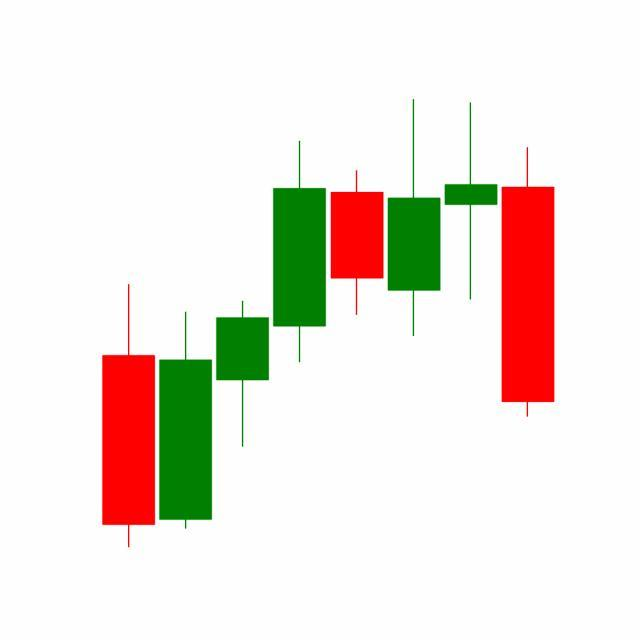Hikkake Pattern: (270, 99, 555, 422)
